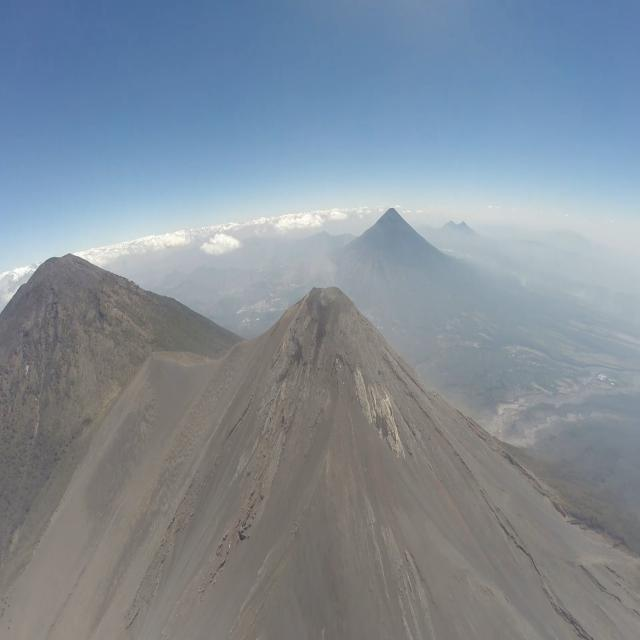Summit: (218, 277, 503, 456)
